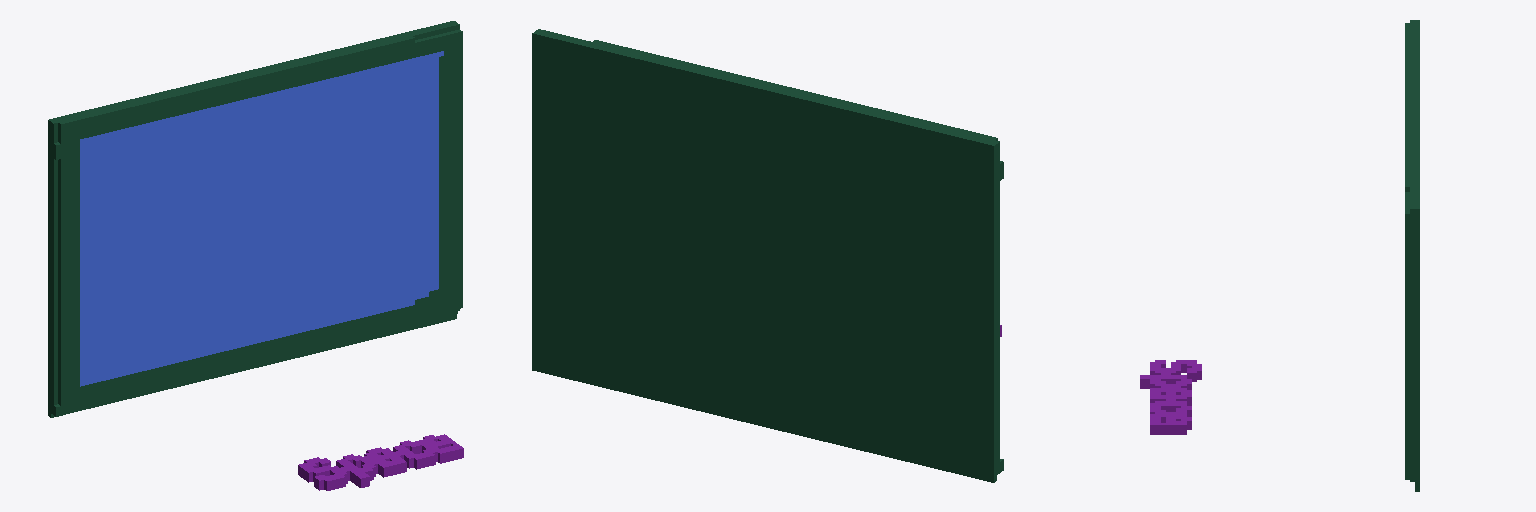
URDF robot description (physxnet_10123_strict):
<?xml version='1.0' encoding='utf-8'?>
<robot name="physxnet_10123_strict">
  <link name="l_world">
    <inertial>
      <origin xyz="0 0 0" rpy="0 0 0" />
      <mass value="0.0100000000" />
      <inertia ixx="0.0000001667" ixy="0.0" ixz="0.0" iyy="0.0000001667" iyz="0.0" izz="0.0000001667" />
    </inertial>
  </link><link name="l_0">
    <inertial>
      <origin xyz="-0.0053656908 0.1094278600 0.0069539220" rpy="0 0 0" />
      <mass value="0.0005314132" />
      <inertia ixx="0.0000017032" ixy="0.0" ixz="0.0" iyy="0.0000057893" iyz="0.0" izz="0.0000040861" />
    </inertial><visual>
      <origin xyz="0 0 0" rpy="0 0 0" />
      <geometry>
        <mesh filename="../rigid_visuals/part_000_visual.obj" scale="1 1 1" />
      </geometry><material name="mat_l_0">
        <color rgba="0.32548 0.48041 0.93131 1.00000" />
      </material>
    </visual><collision>
      <origin xyz="0 0 0" rpy="0 0 0" />
      <geometry>
        <mesh filename="part_000_collision.obj" scale="1 1 1" />
      </geometry>
    </collision>
  </link><joint name="joint_fixed_l_world_l_0" type="fixed">
    <parent link="l_world" />
    <child link="l_0" />
    <origin xyz="0 0 0" rpy="0 0 0" />
  </joint><link name="l_1">
    <inertial>
      <origin xyz="-0.0048658480 0.1132429116 0.0016114742" rpy="0 0 0" />
      <mass value="0.0130267343" />
      <inertia ixx="0.0000600828" ixy="0.0" ixz="0.0" iyy="0.0001856830" iyz="0.0" izz="0.0001257779" />
    </inertial><visual>
      <origin xyz="0 0 0" rpy="0 0 0" />
      <geometry>
        <mesh filename="../rigid_visuals/part_001_visual.obj" scale="1 1 1" />
      </geometry><material name="mat_l_1">
        <color rgba="0.15447 0.35718 0.26453 1.00000" />
      </material>
    </visual><collision>
      <origin xyz="0 0 0" rpy="0 0 0" />
      <geometry>
        <mesh filename="part_001_collision.obj" scale="1 1 1" />
      </geometry>
    </collision>
  </link><joint name="joint_fixed_l_0_l_1" type="fixed">
    <parent link="l_0" />
    <child link="l_1" />
    <origin xyz="0 0 0" rpy="0 0 0" />
  </joint><link name="l_2">
    <inertial>
      <origin xyz="0.0000234802 -0.0001211956 -0.0004803946" rpy="0 0 0" />
      <mass value="0.3450025386" />
      <inertia ixx="0.0031494604" ixy="0.0" ixz="0.0" iyy="0.0050787561" iyz="0.0" izz="0.0051126161" />
    </inertial><visual>
      <origin xyz="0 0 0" rpy="0 0 0" />
      <geometry>
        <mesh filename="../rigid_visuals/part_002_visual.obj" scale="1 1 1" />
      </geometry><material name="mat_l_2">
        <color rgba="0.29417 0.82410 0.87988 1.00000" />
      </material>
    </visual><collision>
      <origin xyz="0 0 0" rpy="0 0 0" />
      <geometry>
        <mesh filename="part_002_collision.obj" scale="1 1 1" />
      </geometry>
    </collision>
  </link><joint name="joint_fixed_l_1_l_2" type="fixed">
    <parent link="l_1" />
    <child link="l_2" />
    <origin xyz="0 0 0" rpy="0 0 0" />
  </joint><link name="l_3">
    <inertial>
      <origin xyz="-0.0060555094 -0.0746809002 -0.1177595218" rpy="0 0 0" />
      <mass value="0.0002515905" />
      <inertia ixx="0.0000000388" ixy="0.0" ixz="0.0" iyy="0.0000002856" iyz="0.0" izz="0.0000003241" />
    </inertial><visual>
      <origin xyz="0 0 0" rpy="0 0 0" />
      <geometry>
        <mesh filename="../rigid_visuals/part_003_visual.obj" scale="1 1 1" />
      </geometry><material name="mat_l_3">
        <color rgba="0.55944 0.19916 0.68114 1.00000" />
      </material>
    </visual><collision>
      <origin xyz="0 0 0" rpy="0 0 0" />
      <geometry>
        <mesh filename="part_003_collision.obj" scale="1 1 1" />
      </geometry>
    </collision>
  </link><joint name="joint_fixed_l_2_l_3" type="fixed">
    <parent link="l_2" />
    <child link="l_3" />
    <origin xyz="0 0 0" rpy="0 0 0" />
  </joint>
</robot>

--- Render facts (derived) ---
3 views of the same robot in one strip: view 1: azimuth 30°, elevation 25°; view 2: azimuth 150°, elevation 25°; view 3: azimuth 270°, elevation 25° (orthographic).
Robot: physxnet_10123_strict — 5 links, 4 joints (4 fixed); root link l_world; default pose: every joint at zero.
Visible links, largest first — view 1: l_0, l_1, l_3; view 2: l_1; view 3: l_1, l_3.
Boxes of the visible links, x1,y1,x2,y2 form: l_0: (80, 51, 443, 386); l_1: (48, 21, 462, 417); l_3: (298, 434, 463, 490); l_1: (532, 29, 1003, 482); l_1: (1405, 20, 1419, 491); l_3: (1140, 360, 1201, 434).
Size in the robot's own frame: 0.344 by 0.216 by 0.244 metres.
3 mesh visuals loaded from 4 distinct referenced files (3 OBJ); not drawn: 1 (reference not matched to a file when rendering).
